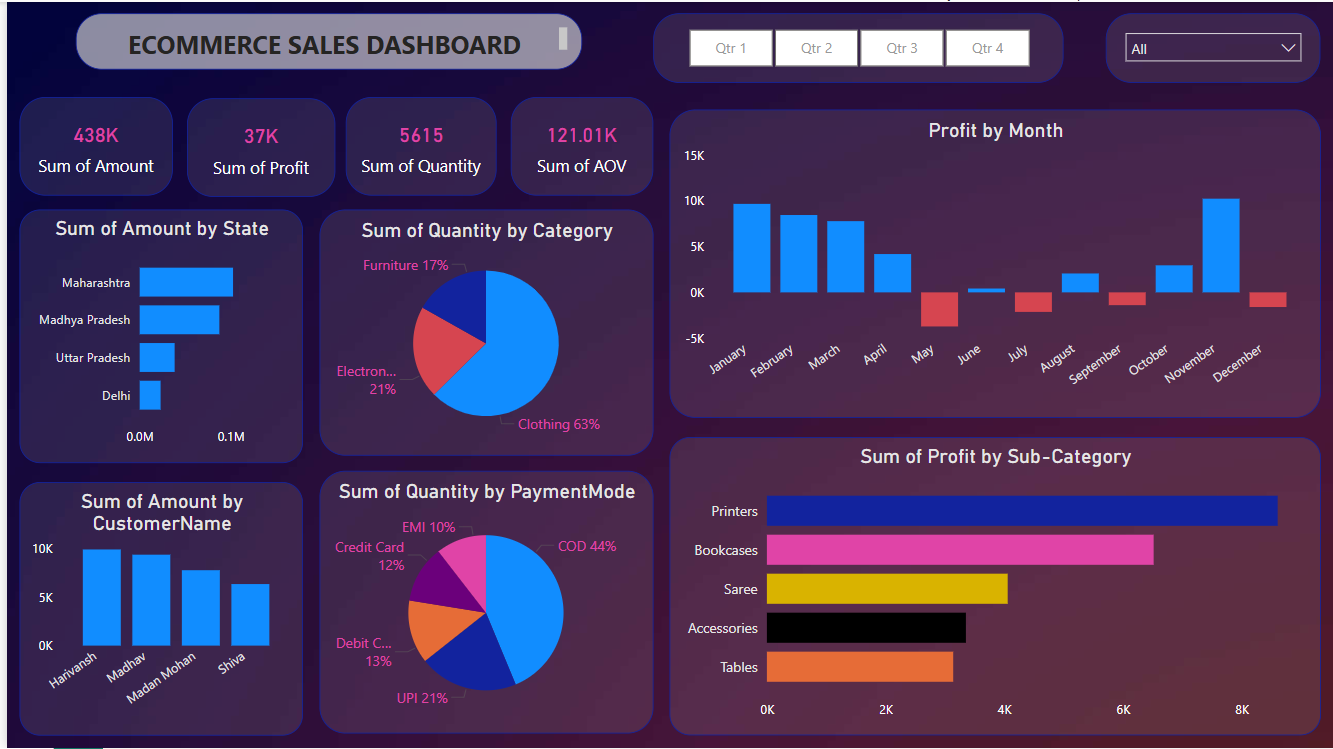

This screenshot's page, from the dashboard's own definition file:
{"tool":"powerbi","page":{"name":"Page 1","canvas":[1280,720],"ordinal":0},"visuals":[{"type":"textbox","box":[66.4,10.9,488.6,54.3],"z":0},{"type":"columnChart","title":"Profit by Month","fields":{"Category":["Orders.Order Date.Variation.Date Hierarchy.Month"],"Y":["Sum(Details.Profit)"]},"box":[639.4,103.8,628.6,298],"z":1000},{"type":"barChart","fields":{"Category":["Details.Sub-Category"],"Y":["Sum(Details.Profit)"]},"box":[639.4,419.8,628.6,288.3],"z":2000},{"type":"pieChart","fields":{"Category":["Details.Category"],"Y":["Sum(Details.Quantity)"]},"box":[301.6,200.3,322.1,237.7],"z":3000},{"type":"pieChart","fields":{"Y":["Sum(Details.Quantity)"],"Category":["Details.PaymentMode"]},"box":[301.6,452.4,322.1,253.4],"z":4000},{"type":"card","fields":{"Values":["Sum(Details.Amount)"]},"box":[12.1,91.7,148.4,95.3],"z":5000},{"type":"card","fields":{"Values":["Sum(Details.Profit)"]},"box":[173.7,92.9,143.6,95.3],"z":6000},{"type":"card","fields":{"Values":["Sum(Details.Quantity)"]},"box":[326.9,91.7,146,95.3],"z":7000},{"type":"card","fields":{"Values":["Sum(Details.AOV)"]},"box":[486.2,91.7,137.5,95.3],"z":8000},{"type":"barChart","fields":{"Category":["Orders.State"],"Y":["Sum(Details.Amount)"]},"box":[12.1,200.3,273.9,244.9],"z":9000},{"type":"columnChart","fields":{"Category":["Orders.CustomerName"],"Y":["Sum(Details.Amount)"]},"box":[12.1,463.3,273.9,244.9],"z":10000},{"type":"slicer","fields":{"Values":["Orders.Order Date.Variation.Date Hierarchy.Quarter"]},"box":[623.7,10.9,395.7,67.6],"z":11000},{"type":"slicer","fields":{"Values":["Orders.State"]},"box":[1060.5,10.9,207.5,67.6],"z":12000}]}

Visuals, with their boxes in screenshot pixels (x1, y1, x2, y2), scaled from the page's 1280x720 canvas onto the 1333x749 screenshot:
textbox: (x1=69, y1=11, x2=578, y2=68)
"Profit by Month" columnChart: (x1=666, y1=108, x2=1321, y2=418)
barChart - Details.Sub-Category x Sum(Details.Profit): (x1=666, y1=437, x2=1321, y2=737)
pieChart - Details.Category x Sum(Details.Quantity): (x1=314, y1=208, x2=650, y2=456)
pieChart - Sum(Details.Quantity) x Details.PaymentMode: (x1=314, y1=471, x2=650, y2=734)
card - Sum(Details.Amount): (x1=13, y1=95, x2=167, y2=195)
card - Sum(Details.Profit): (x1=181, y1=97, x2=330, y2=196)
card - Sum(Details.Quantity): (x1=340, y1=95, x2=492, y2=195)
card - Sum(Details.AOV): (x1=506, y1=95, x2=650, y2=195)
barChart - Orders.State x Sum(Details.Amount): (x1=13, y1=208, x2=298, y2=463)
columnChart - Orders.CustomerName x Sum(Details.Amount): (x1=13, y1=482, x2=298, y2=737)
slicer - Orders.Order Date.Variation.Date Hierarchy.Quarter: (x1=650, y1=11, x2=1062, y2=82)
slicer - Orders.State: (x1=1104, y1=11, x2=1321, y2=82)
